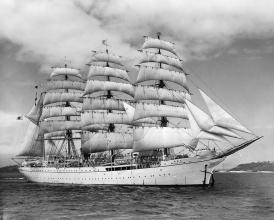fanchuan: (11, 28, 265, 185)
